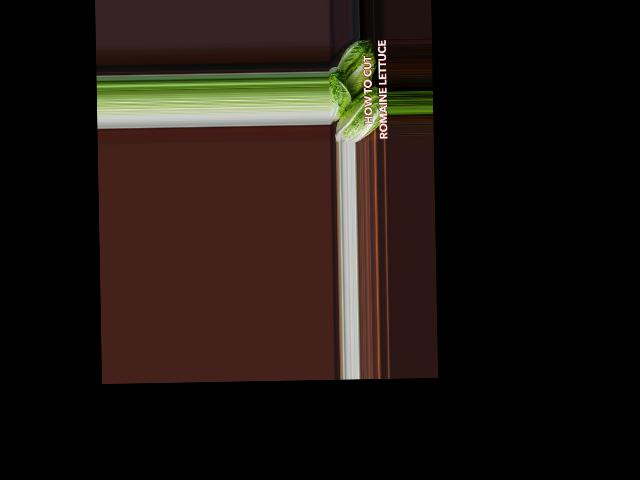lettuce: (333, 37, 381, 102)
